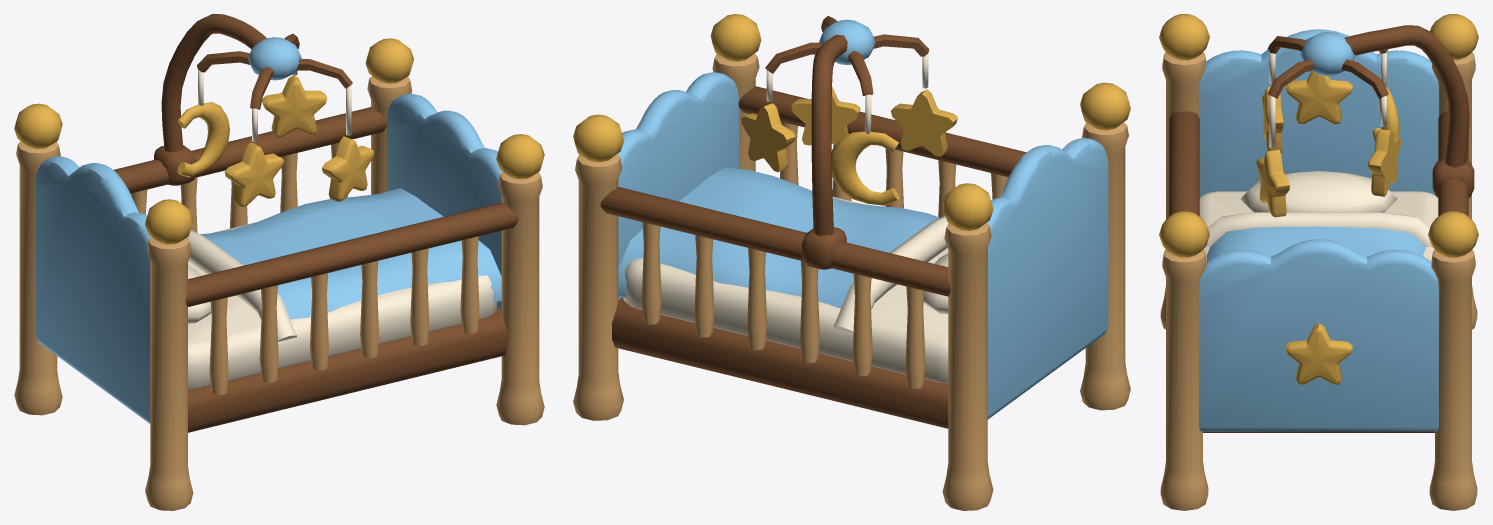
File: ShopCrib.fbx
3 views of the same model, side by side, from view 1: azimuth 30°, elevation 25°; view 2: azimuth 150°, elevation 25°; view 3: azimuth 270°, elevation 25° (orthographic). The views are drawn at different scales.
Parts seen in each view (by area): view 1: ShopCrib; view 2: ShopCrib; view 3: ShopCrib.
Boxes of the visible parts, bbox=[...] form: ShopCrib: bbox=[14, 14, 544, 510]; ShopCrib: bbox=[573, 14, 1130, 510]; ShopCrib: bbox=[1159, 14, 1478, 510].
Bounding box in the file's own units: 1.01 × 0.9016 × 0.69.
